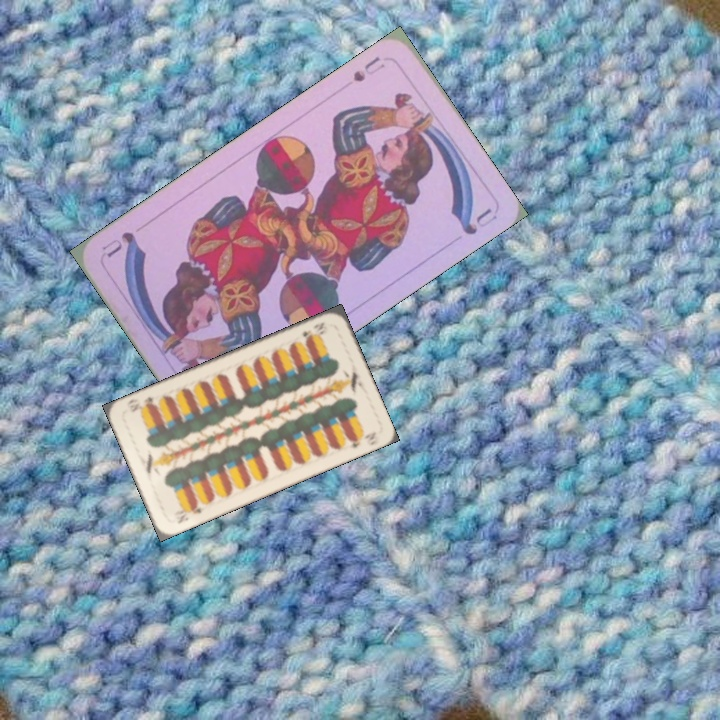E10: (173, 500, 206, 526), (299, 318, 330, 343)
SU: (349, 52, 388, 85)
